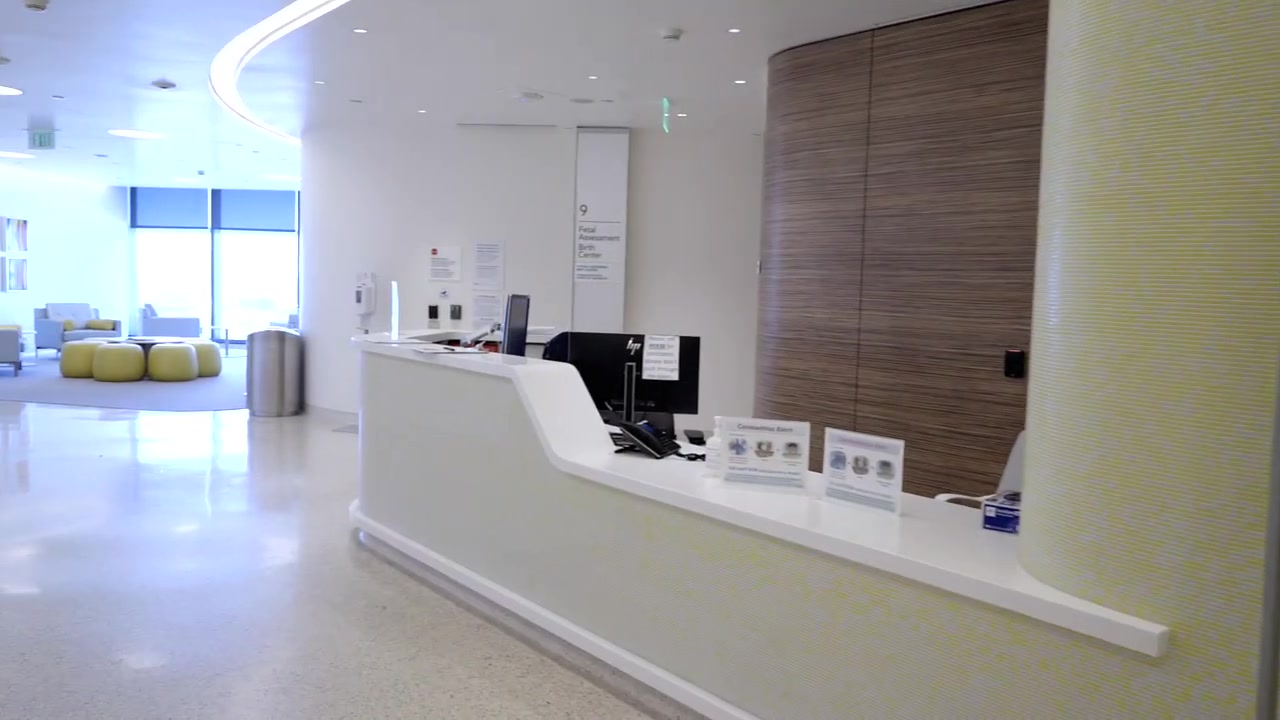chair: (934, 417, 1038, 536), (146, 344, 198, 386), (93, 343, 146, 382), (60, 340, 107, 378), (187, 341, 223, 375)
computer: (594, 331, 698, 411), (509, 294, 533, 360)
counter: (349, 334, 1258, 720)
countertop: (367, 325, 983, 578)
dispenser: (351, 286, 376, 317)
sofa: (34, 303, 121, 359), (140, 303, 202, 340), (1, 318, 24, 378)
table: (103, 336, 183, 344)
telephone: (625, 422, 681, 457)
waste_bin: (246, 329, 303, 418)
